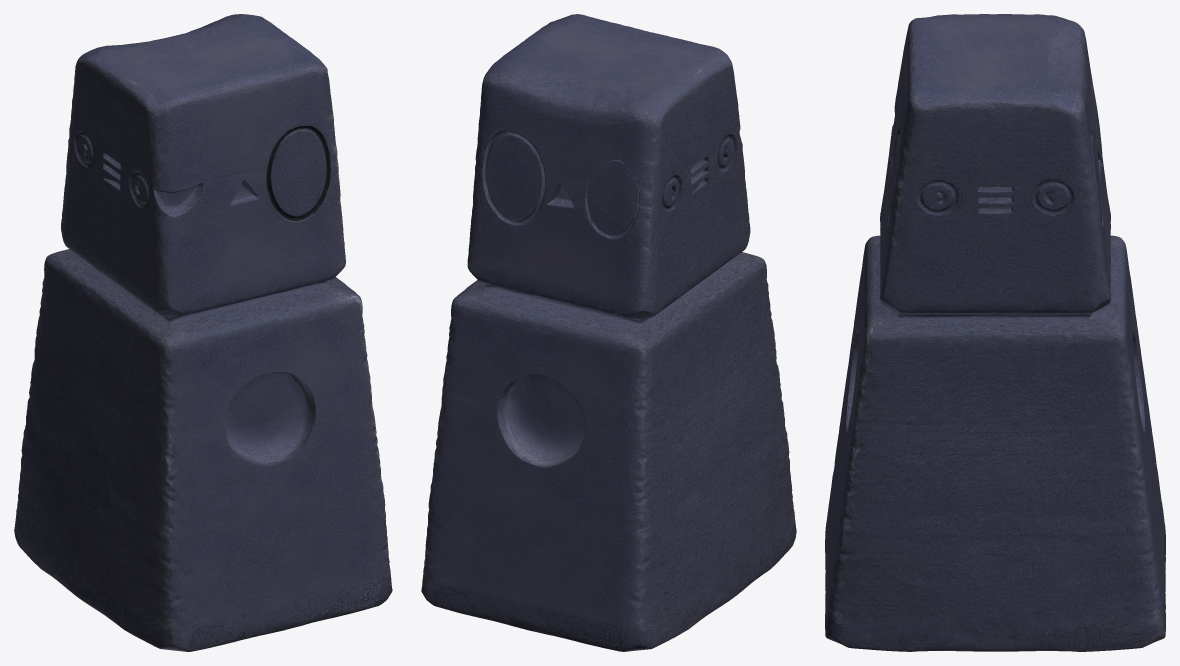
File: building_stacked.glb
3 renders of one model, left to right at view 1: azimuth 30°, elevation 25°; view 2: azimuth 150°, elevation 25°; view 3: azimuth 270°, elevation 25°, orthographic. The views are drawn at different scales.
Size of the model in its own units: 0.9621 by 1.9 by 1.09.
Materials: 1 (1 with a texture image).
